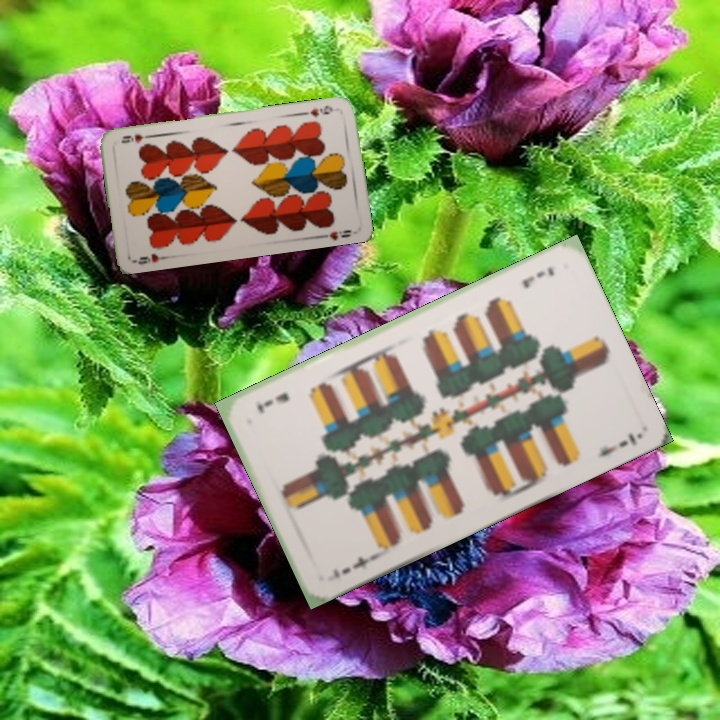E7: (328, 550, 379, 581), (518, 263, 557, 291)
H9: (130, 249, 170, 267), (306, 101, 335, 121)
